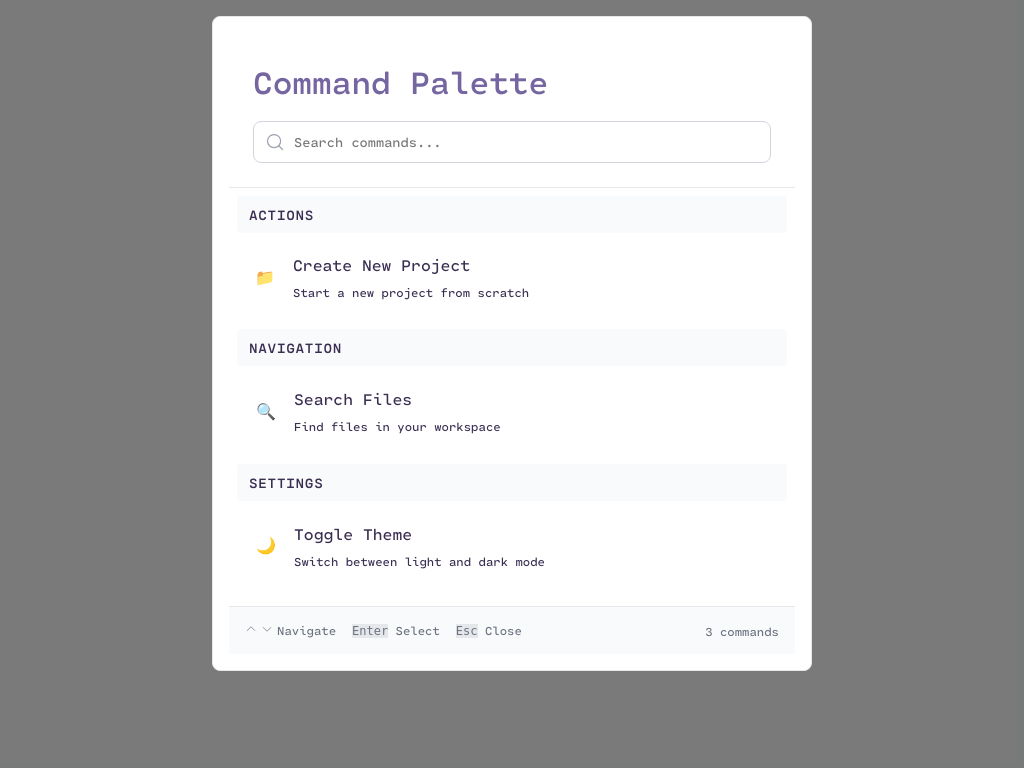
CommandPalette › shows no results message when no matches found
Type "nonexistent" into the field with placeholder "Search commands..." at coordinates (512, 142), box [253,121,771,163]
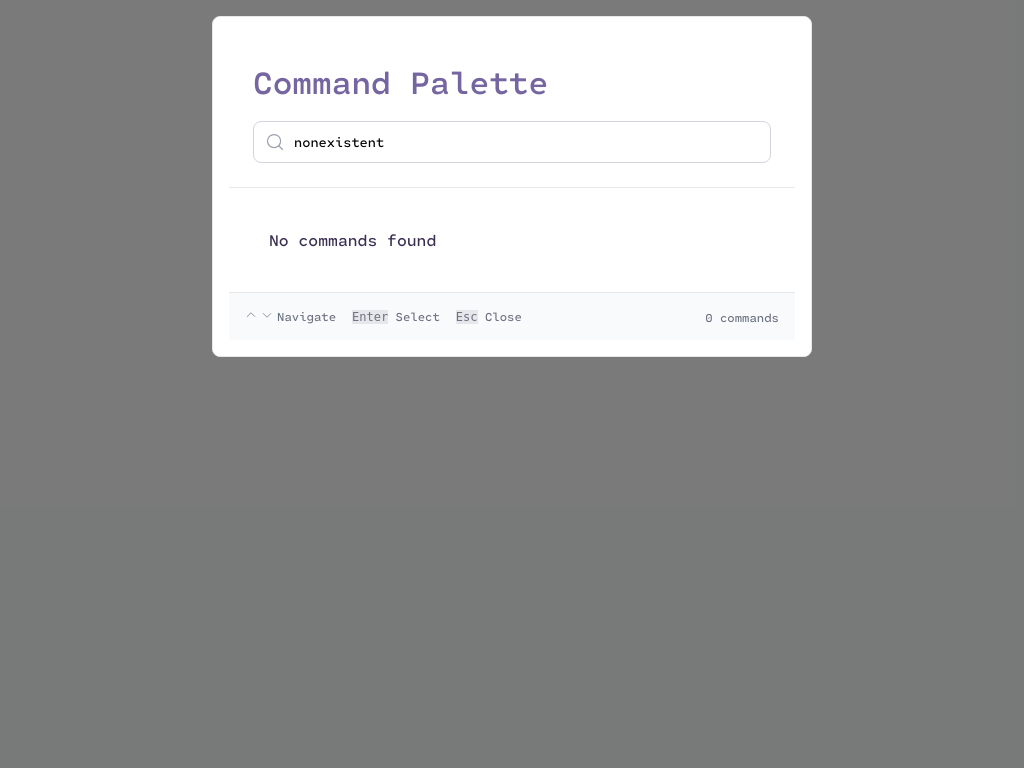
Expected: the text "No commands found" is shown, [269,230,436,249]
